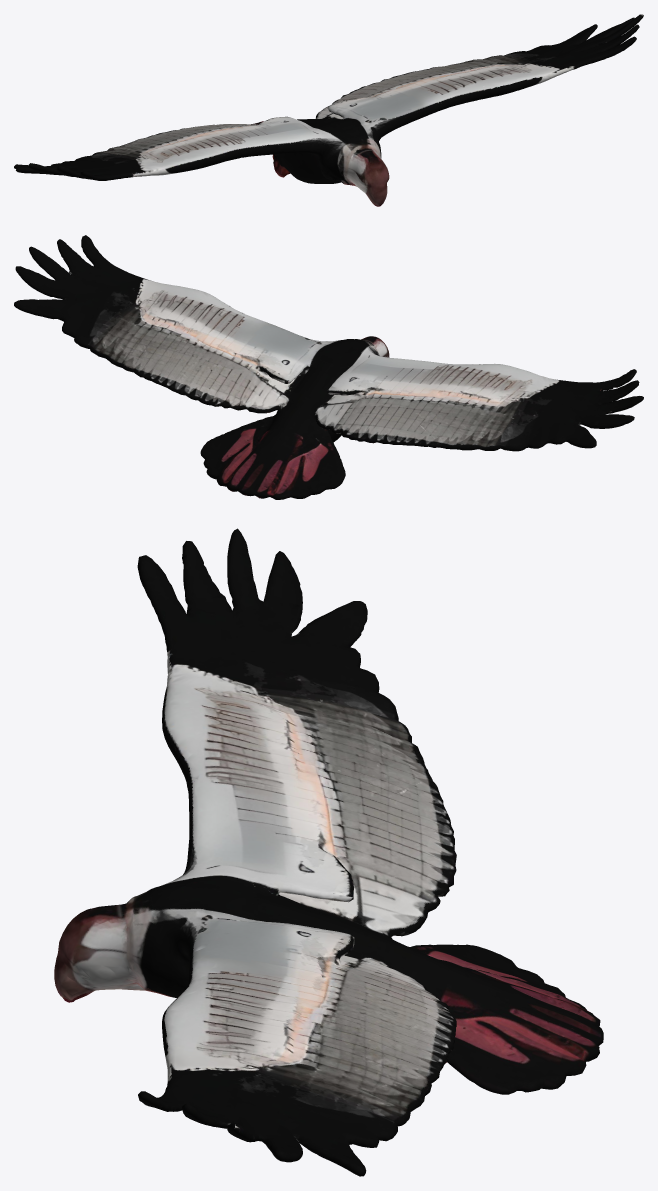
Rendered from condor.glb.
The picture shows the model from 3 angles, top to bottom: view 1: azimuth 30°, elevation 25°; view 2: azimuth 150°, elevation 25°; view 3: azimuth 270°, elevation 25°; orthographic projection. The views are drawn at different scales.
Parts seen in each view (by area): view 1: condor; view 2: condor; view 3: condor.
Boxes of the visible parts, x1=… form: condor: x1=14, y1=14, x2=643, y2=206; condor: x1=14, y1=235, x2=643, y2=499; condor: x1=54, y1=528, x2=603, y2=1176.
Bounding box in the file's own units: 3 × 0.5566 × 1.15.
1 material, 1 textured.
